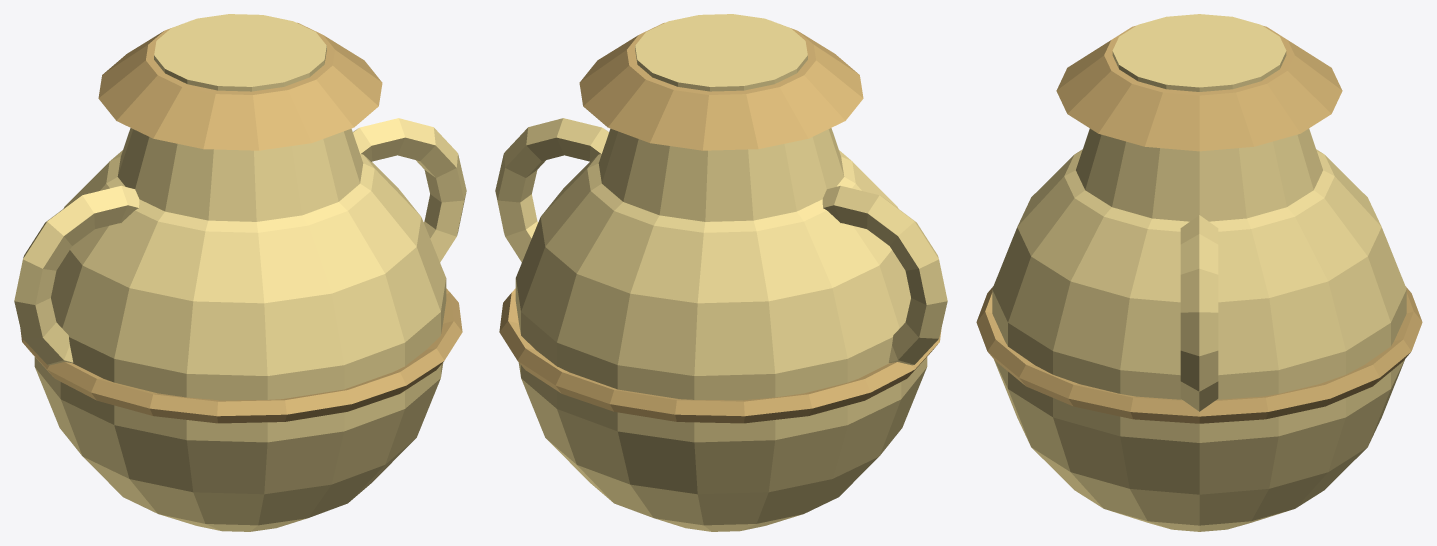
File: cantaro_oro.glb
3 views of the same model, side by side, from view 1: azimuth 30°, elevation 25°; view 2: azimuth 150°, elevation 25°; view 3: azimuth 270°, elevation 25° (orthographic).
Visible parts, largest first — view 1: cantaro_oro; view 2: cantaro_oro; view 3: cantaro_oro.
Part boxes in pixels (left/top/right/bottom): cantaro_oro: left=14, top=14, right=466, bottom=531; cantaro_oro: left=495, top=14, right=947, bottom=531; cantaro_oro: left=976, top=14, right=1422, bottom=531.
Size of the model in its own units: 1.86 by 1.82 by 1.59.
